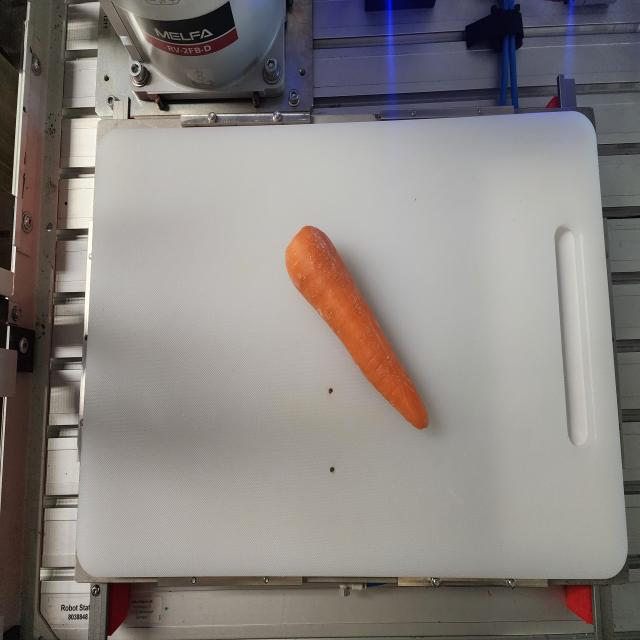carrot: (285, 224, 429, 430)
